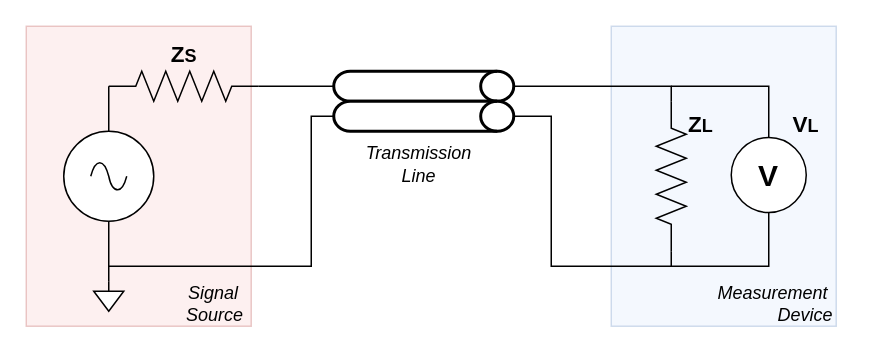
The diagram is 878 pixels wide and 353 high, and some of its shapes have lost their labels. Each missing label, with the centre of its shape:
V S: (108,175)
Z 0: (423,85)
